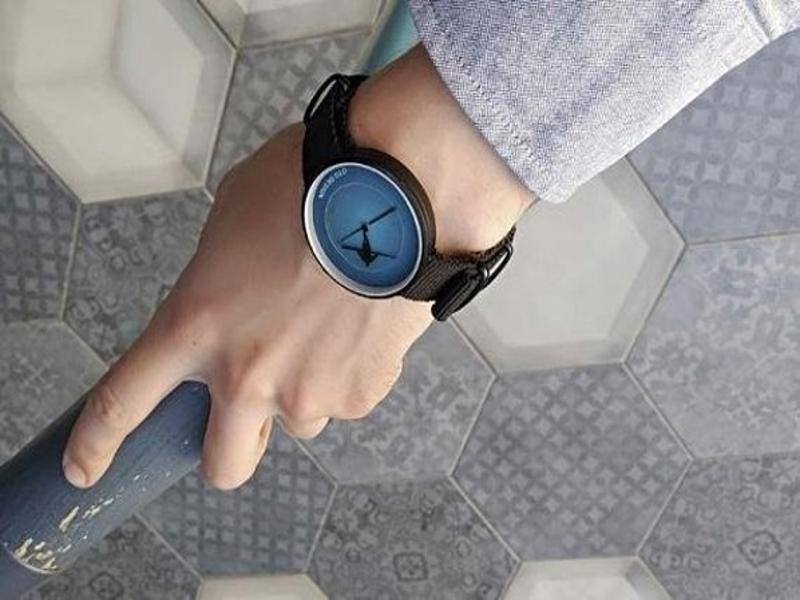watch: (300, 71, 517, 322)
